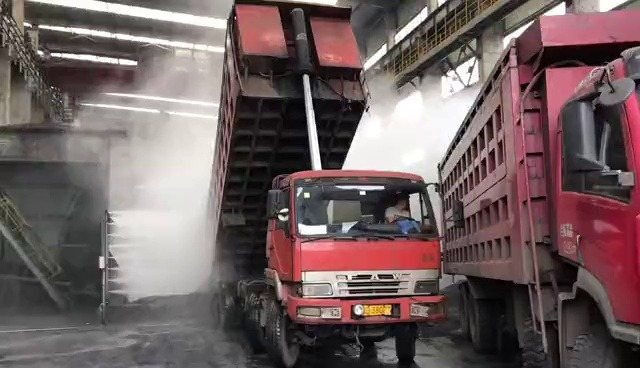dust: (66, 53, 215, 289), (344, 64, 476, 180)
truck: (215, 3, 441, 357), (445, 6, 633, 357)
